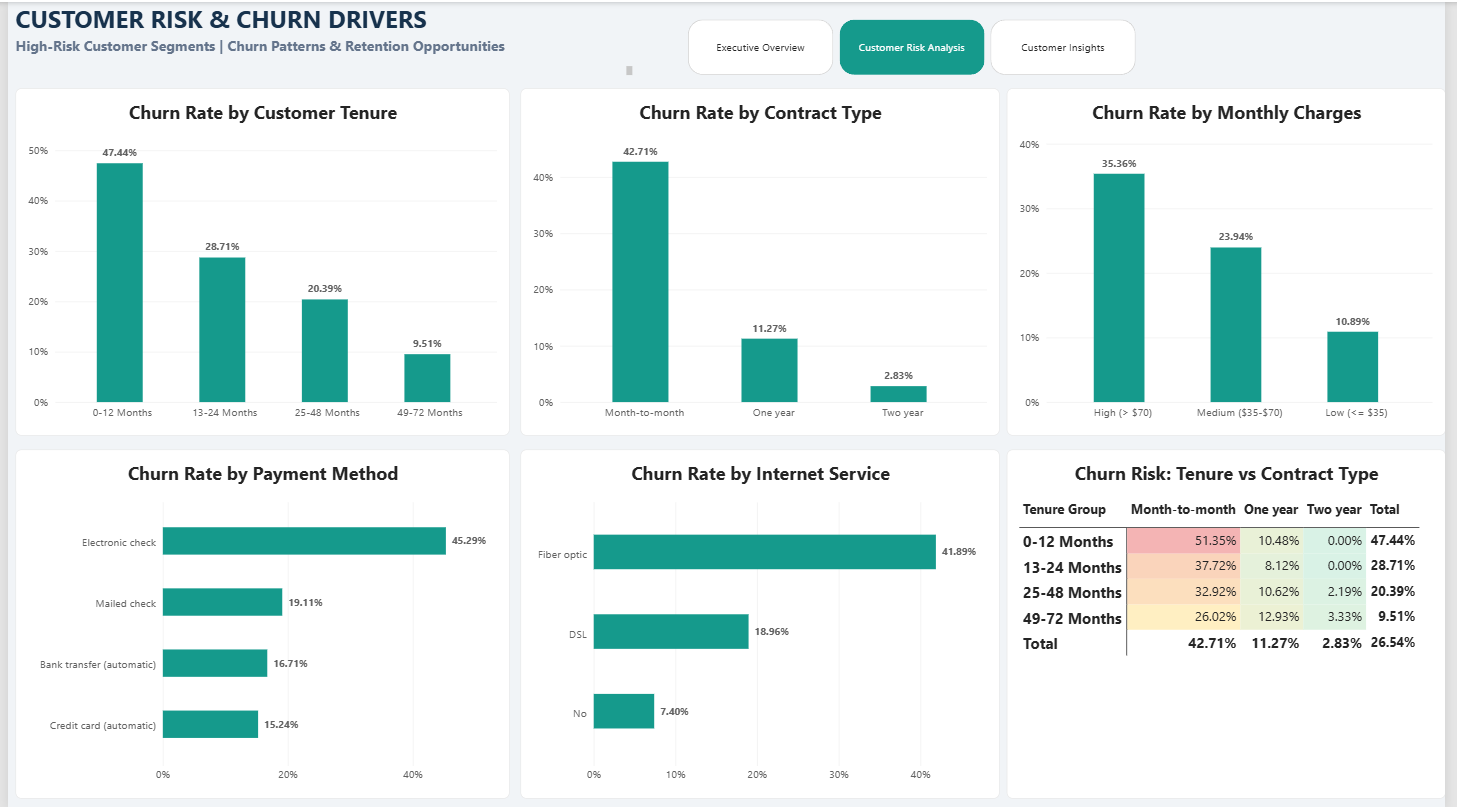

Layout of this report page (visuals, bound fields, positions):
{"tool":"powerbi","page":{"name":"Customer Risk Analysis","canvas":[1920,1080],"ordinal":2},"visuals":[{"type":"textbox","box":[48.8,116.9,191.9,947.1],"z":0},{"type":"textbox","title":"CUSTOMER RISK & CHURN DRIVERS","box":[256,18,784,82],"z":1000},{"type":"clusteredColumnChart","title":"Churn Rate by Customer Tenure","fields":{"Category":["Telco-Customer-Churn_Raw.Tenure Group"],"Y":["Telco-Customer-Churn_Raw.Churn Rate by Segment"]},"box":[256.4,116.9,545.9,464],"z":2000},{"type":"clusteredColumnChart","title":"Churn Rate by Contract Type","fields":{"Category":["Telco-Customer-Churn_Raw.Contract"],"Y":["Telco-Customer-Churn_Raw.Churn Rate by Segment"]},"box":[816.3,116.9,514.5,464],"z":3000},{"type":"clusteredBarChart","title":"Churn Rate by Online Security","fields":{"Category":["Telco-Customer-Churn_Raw.OnlineSecurity"],"Y":["Telco-Customer-Churn_Raw.Churn Rate by Segment"]},"box":[256.4,598.3,545.9,467.4],"z":4000},{"type":"clusteredBarChart","title":"Churn Rate by Internet Service","fields":{"Category":["Telco-Customer-Churn_Raw.InternetService"],"Y":["Telco-Customer-Churn_Raw.Churn Rate by Segment"]},"box":[816.5,597.8,514.3,465.9],"z":5000},{"type":"clusteredColumnChart","title":"Churn Rate by Monthly Charges","fields":{"Category":["Telco-Customer-Churn_Raw.Monthly Charges Group"],"Y":["Telco-Customer-Churn_Raw.Churn Rate by Segment"]},"box":[1342.5,116.9,561,464.2],"z":6000},{"type":"pivotTable","title":"Churn Risk: Tenure vs Contract Type","fields":{"Columns":["Telco-Customer-Churn_Raw.Contract"],"Rows":["Telco-Customer-Churn_Raw.Tenure Group"],"Values":["Telco-Customer-Churn_Raw.Churn Rate by Segment"]},"box":[1342.5,597.8,561,465.9],"z":7000},{"type":"image","title":"Executive Overview","box":[48,438,192,118],"z":8000},{"type":"image","title":"Customer Insights ","box":[46,676,194,110],"z":9000},{"type":"image","box":[46,18,192,82],"z":10000},{"type":"slicer","fields":{"Values":["Telco-Customer-Churn_Raw.PaymentMethod"]},"box":[1142,18,300,82],"z":11000},{"type":"slicer","fields":{"Values":["Telco-Customer-Churn_Raw.Customer Age Group"]},"box":[1504,18,300,82],"z":12000},{"type":"image","title":"Home","box":[46,286,192,86],"z":13000}]}

Visuals, with their boxes in screenshot pixels (x1, y1, x2, y2), scaled from the page's 1920x1080 canvas onto the 1457x807 screenshot:
textbox: 37,87,183,795
"CUSTOMER RISK & CHURN DRIVERS" textbox: 194,13,789,75
"Churn Rate by Customer Tenure" clusteredColumnChart: 195,87,609,434
"Churn Rate by Contract Type" clusteredColumnChart: 619,87,1010,434
"Churn Rate by Online Security" clusteredBarChart: 195,447,609,796
"Churn Rate by Internet Service" clusteredBarChart: 620,447,1010,795
"Churn Rate by Monthly Charges" clusteredColumnChart: 1019,87,1444,434
"Churn Risk: Tenure vs Contract Type" pivotTable: 1019,447,1444,795
"Executive Overview" image: 36,327,182,415
"Customer Insights " image: 35,505,182,587
image: 35,13,181,75
slicer - Telco-Customer-Churn_Raw.PaymentMethod: 867,13,1094,75
slicer - Telco-Customer-Churn_Raw.Customer Age Group: 1141,13,1369,75
"Home" image: 35,214,181,278
